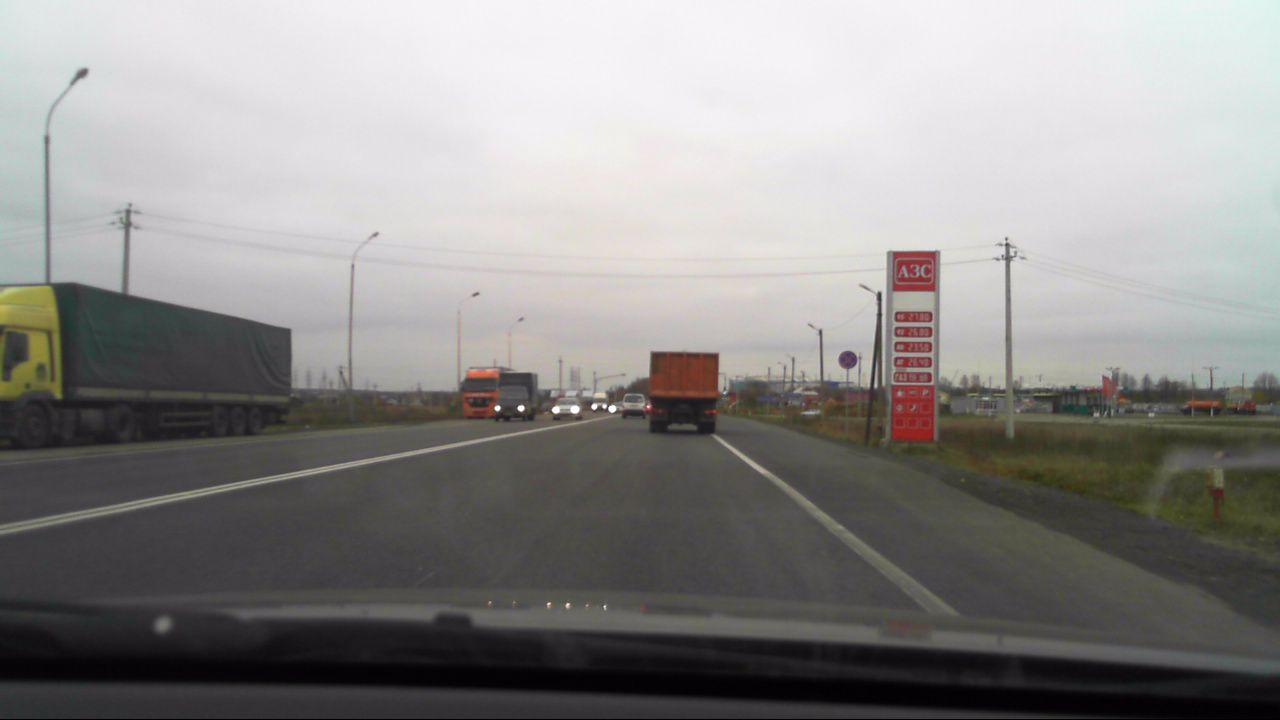No Parking: (838, 345, 862, 371)
